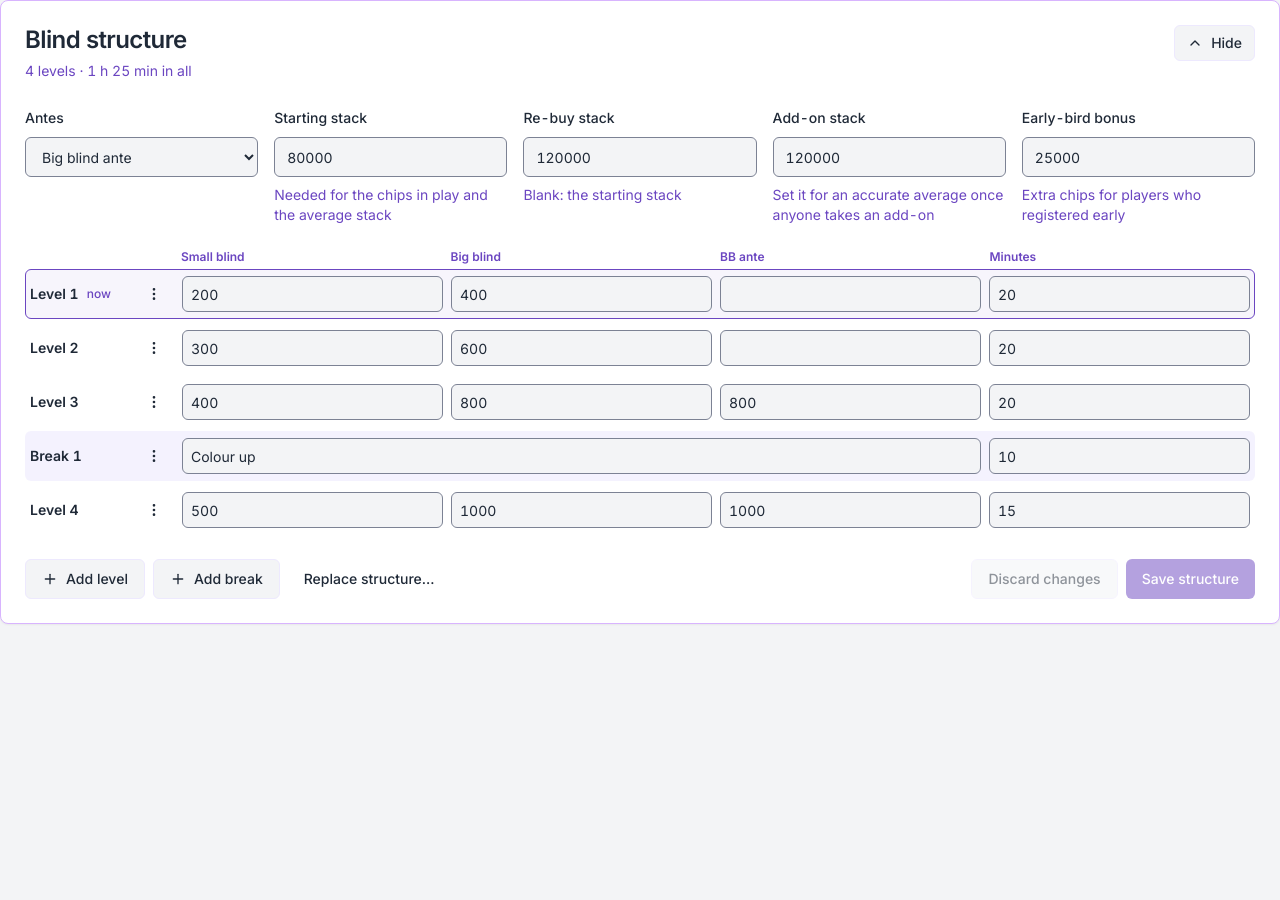
StructureEditor › adds a level about a third up, and a break, numbering the rows as they go
This screenshot has width=1280, height=900.
Click the button "Add level": {"x": 85, "y": 579} [25,559,145,599]
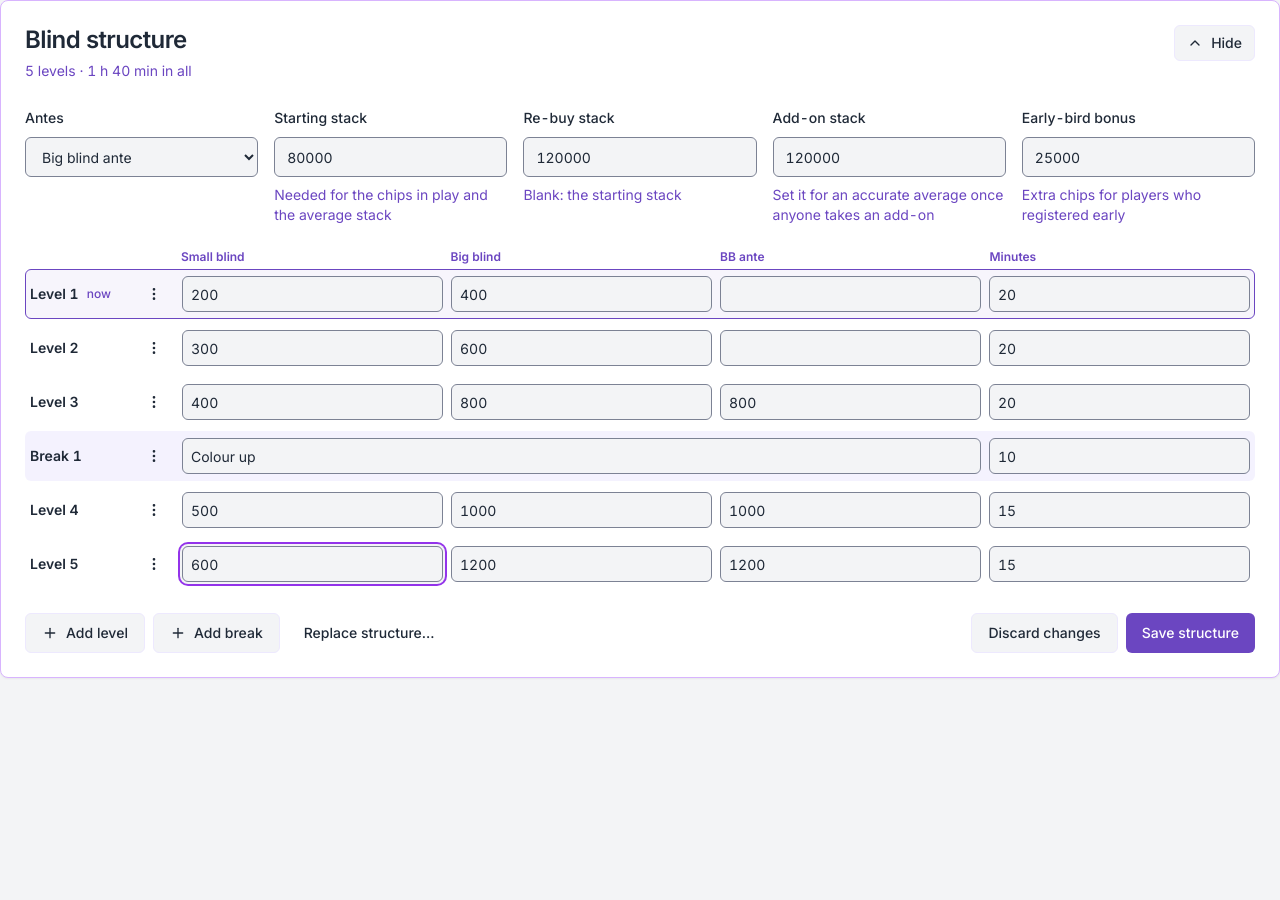
Expected: the field named "Level 5 small blind" holds "600", [182,546,443,582]
Expected: the field named "Level 5 big blind" holds "1200", [451,546,712,582]
Expected: the field named "Level 5 big blind ante" holds "1200", [720,546,981,582]
Click the button named "More for Level 1": {"x": 154, "y": 294} [134,276,174,312]
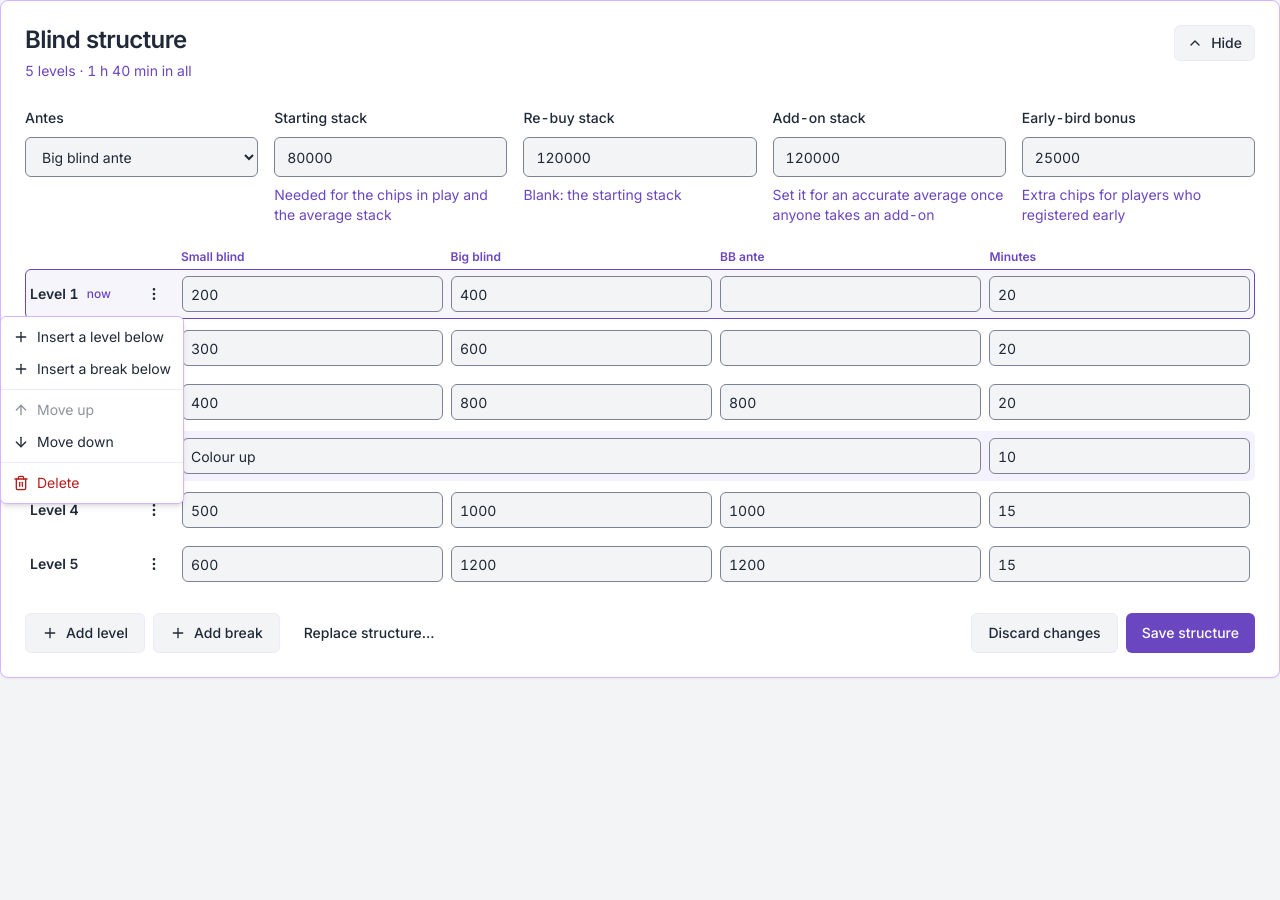
Click the menu item "Insert a break below": {"x": 92, "y": 368} [13,360,171,377]
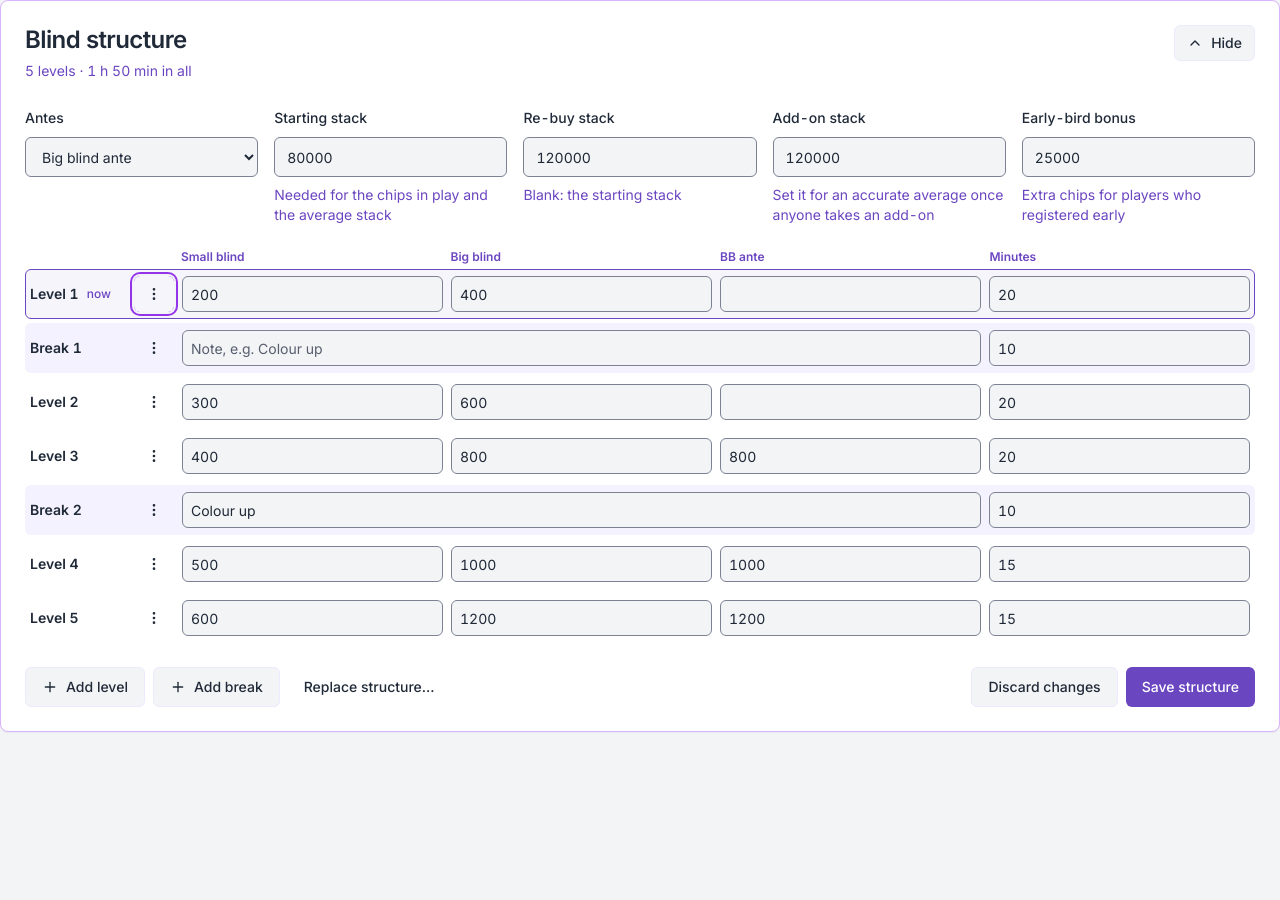
Expected: the field named "Break 1 minutes" holds "10", [989,330,1250,366]
